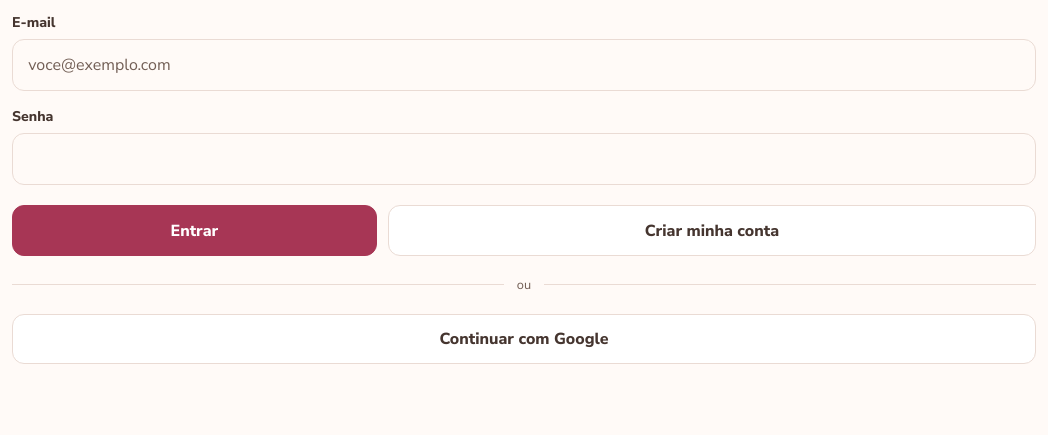
Test case: AuthForm › shows only the message from the latest submitted action
The width and height of the screenshot is (1048, 435).
Type "lu@example.com" into the field labelled "E-mail" at [524, 65], box [12,39,1036,91]
Type "12345678" into the password field labelled "Senha" at [524, 159], box [12,133,1036,185]
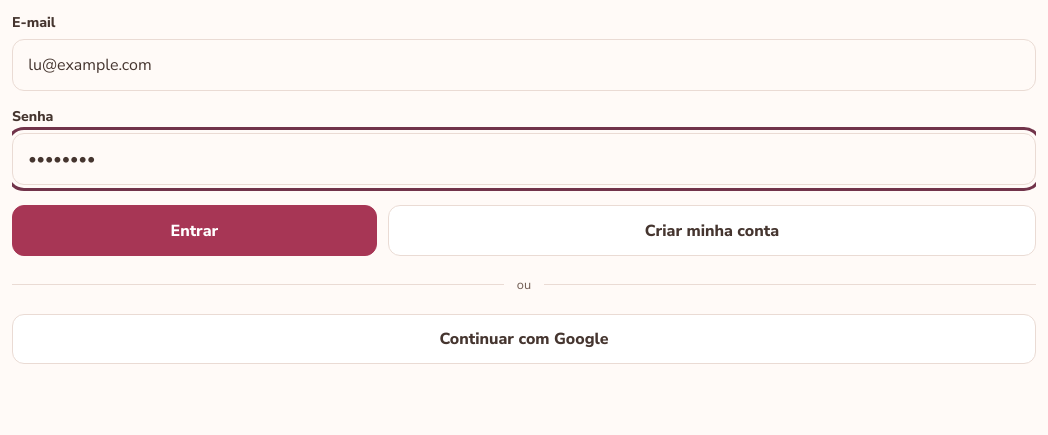
Click the button "Entrar" at [194, 231], box [12,205,377,256]
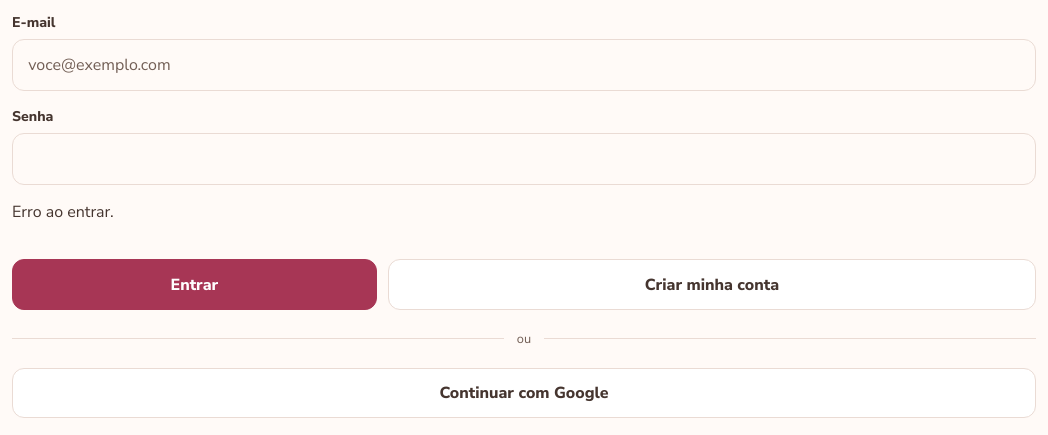
Check: the message reads "Erro ao entrar.", box [12,201,114,223]
Type "lu@example.com" into the field labelled "E-mail" at [524, 65], box [12,39,1036,91]
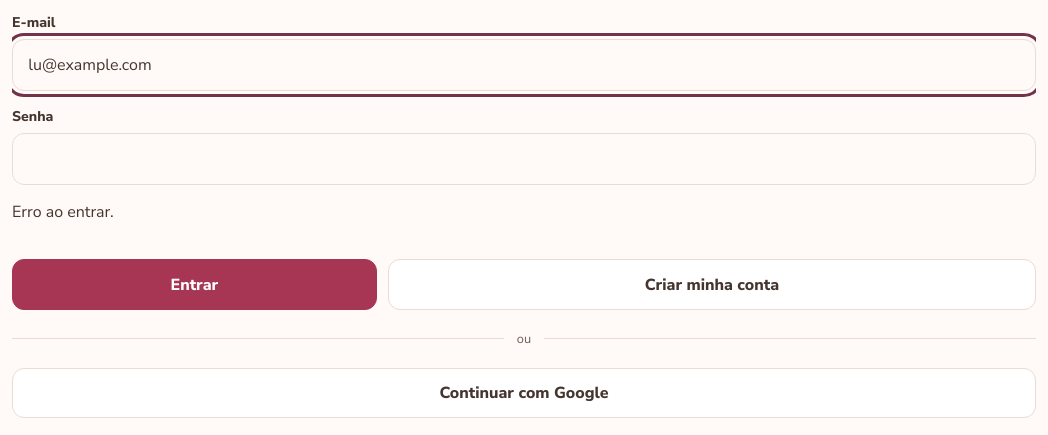
Type "12345678" into the password field labelled "Senha" at [524, 159], box [12,133,1036,185]
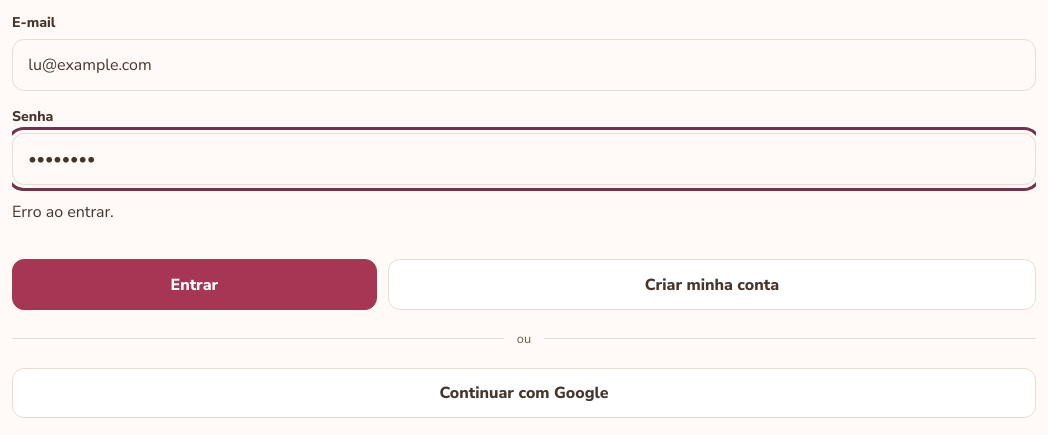
Click the button "Criar minha conta" at [712, 285], box [388,259,1036,310]
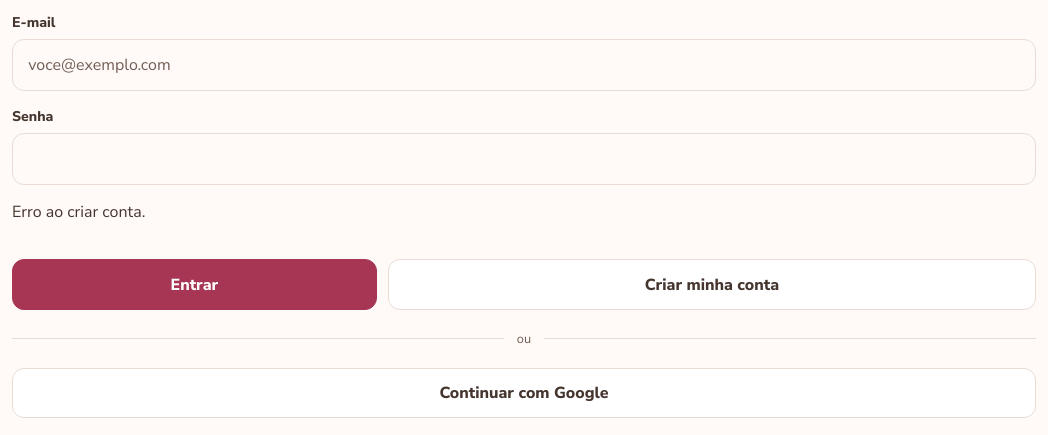
Check: the message reads "Erro ao criar conta.", box [12,201,145,223]
Click the button "Continuar com Google" at [524, 393], box [12,368,1036,418]
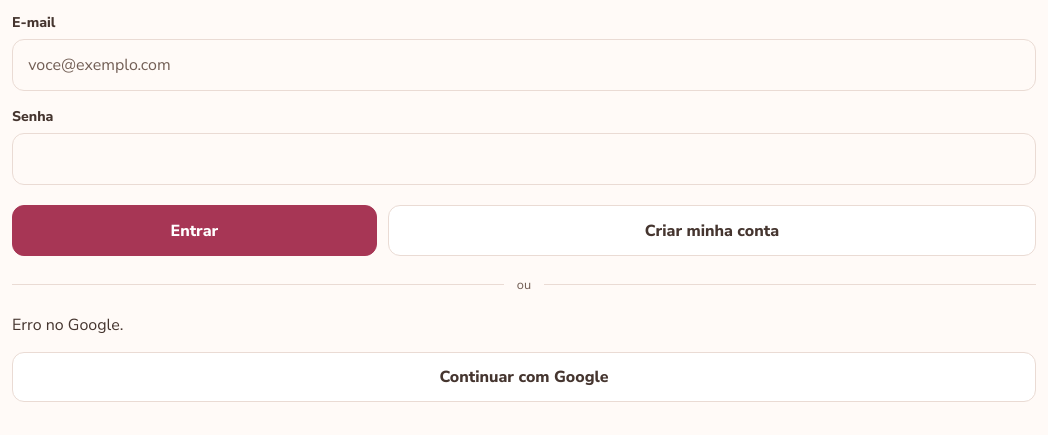
Check: the message reads "Erro no Google.", box [12,314,123,336]
